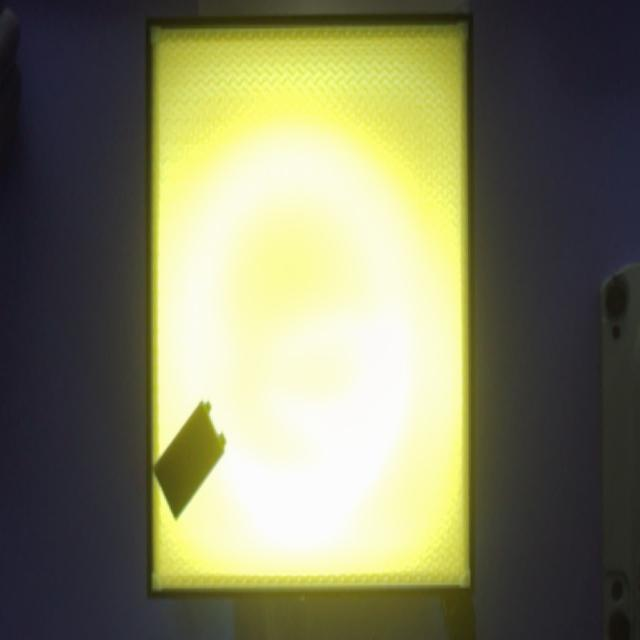bateria: (152, 399, 227, 522)
mesa: (146, 13, 474, 600)
